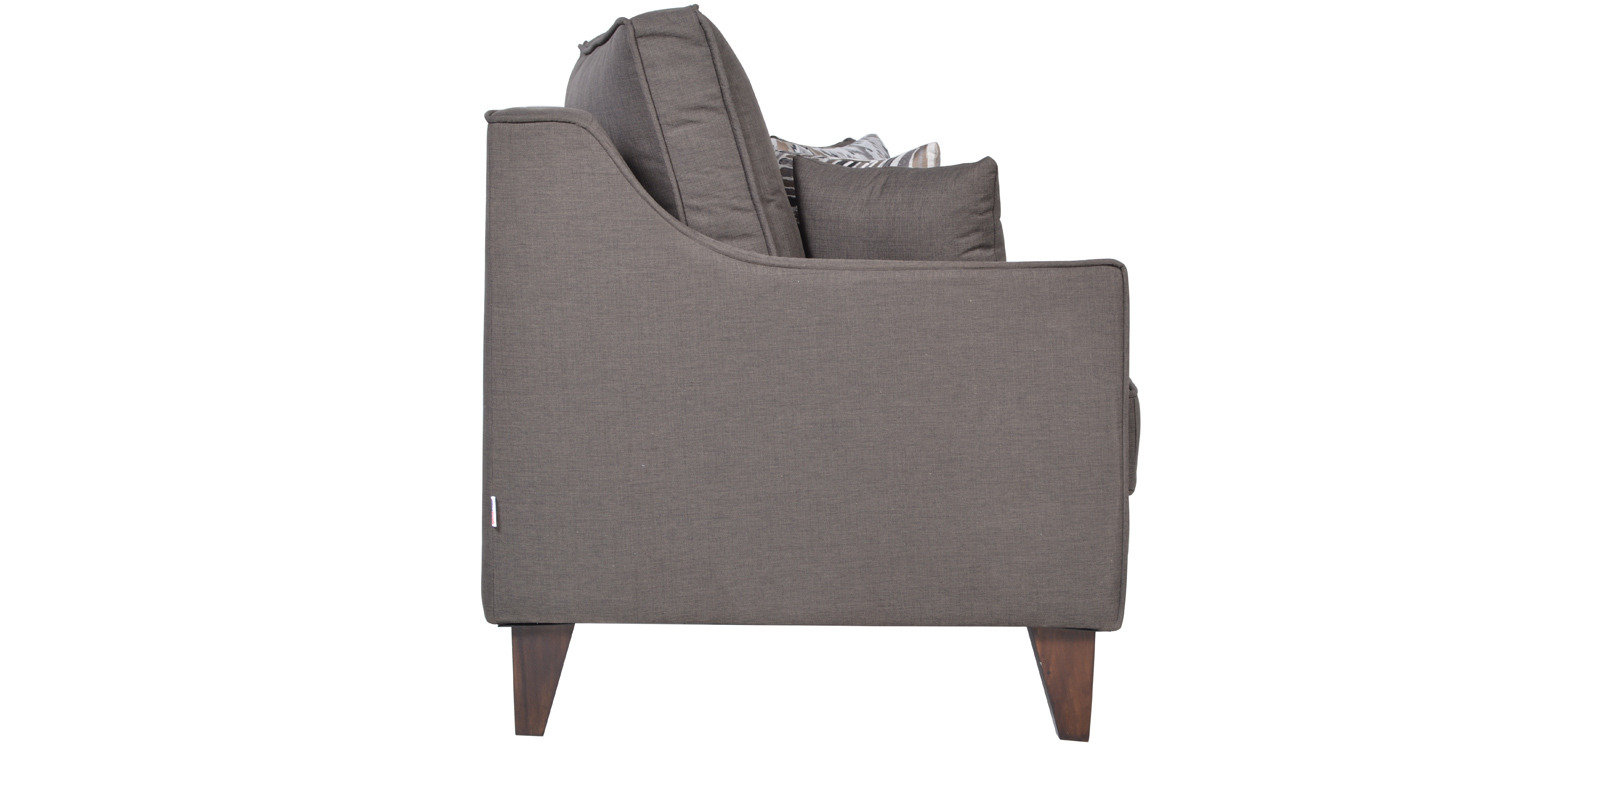Ithaca Impulse Three Seater Sofa with Throw Cushions in Charcoal Grey Colour by: (447, 5, 1148, 777)
